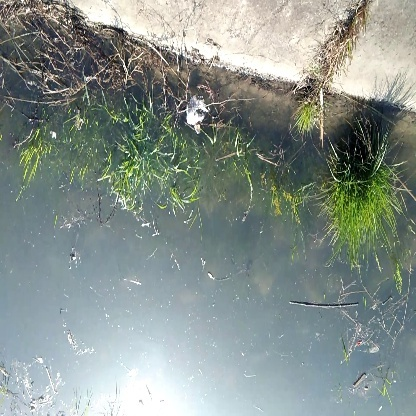branch: (283, 293, 364, 318)
